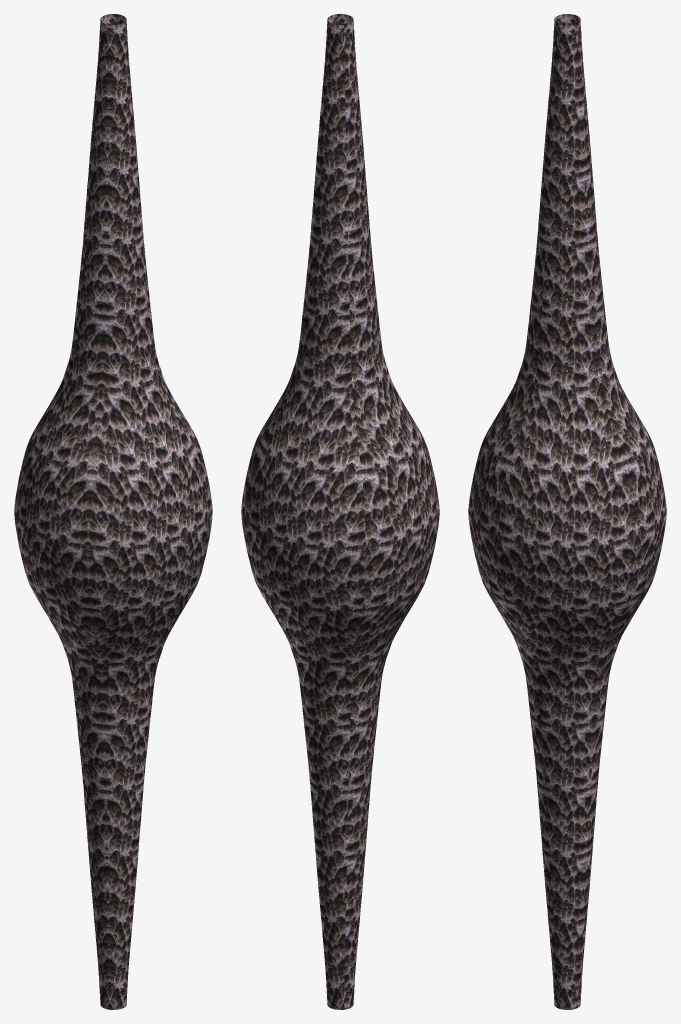
The model's file is Core_values_smaller_uv-transformed.glb.
The picture shows the model from 3 angles, left to right: view 1: azimuth 30°, elevation 25°; view 2: azimuth 150°, elevation 25°; view 3: azimuth 270°, elevation 25°; orthographic projection.
Parts seen in each view (by area): view 1: Cylinder.006; view 2: Cylinder.006; view 3: Cylinder.006.
Boxes of the visible parts, x1=… form: Cylinder.006: x1=14, y1=14, x2=212, y2=1009; Cylinder.006: x1=241, y1=14, x2=439, y2=1009; Cylinder.006: x1=468, y1=14, x2=666, y2=1009.
Size of the model in its own units: 1.32 by 7.22 by 1.32.
1 material, 1 textured.
